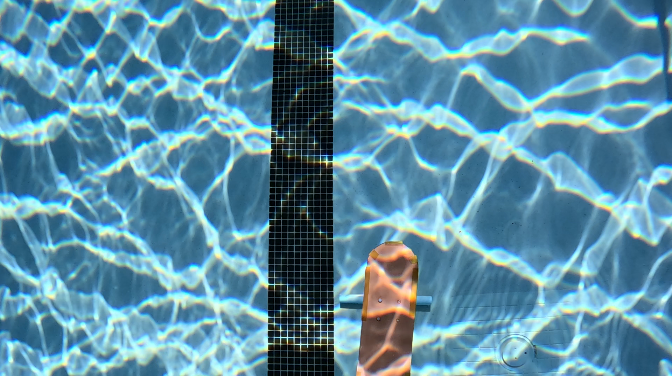pathmarker: (356, 238, 413, 375)
